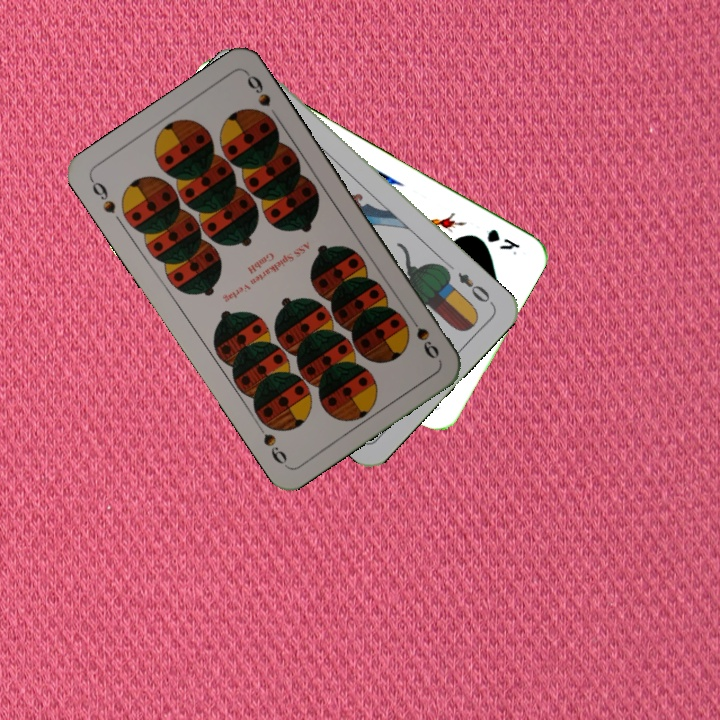EO: (453, 268, 496, 308)
GK: (481, 225, 523, 258)
S9: (404, 310, 442, 362), (86, 175, 119, 216)
